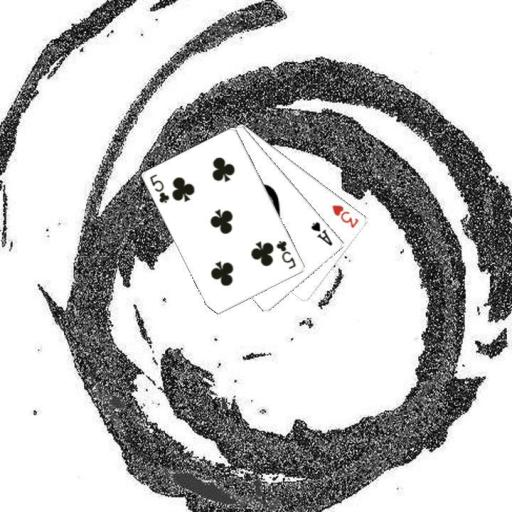3H: (329, 201, 361, 230)
5C: (273, 237, 298, 271), (148, 171, 172, 205)
AS: (308, 219, 334, 248)
